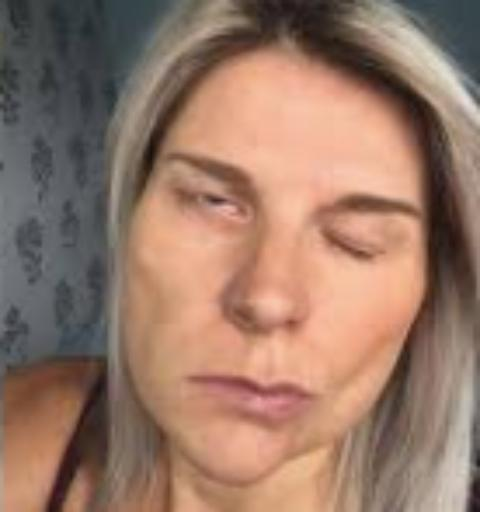left_eye: (315, 226, 390, 268)
left_lip_corner: (294, 383, 326, 408)
right_eye: (180, 191, 250, 220)
right_lip_corner: (180, 366, 214, 388)
